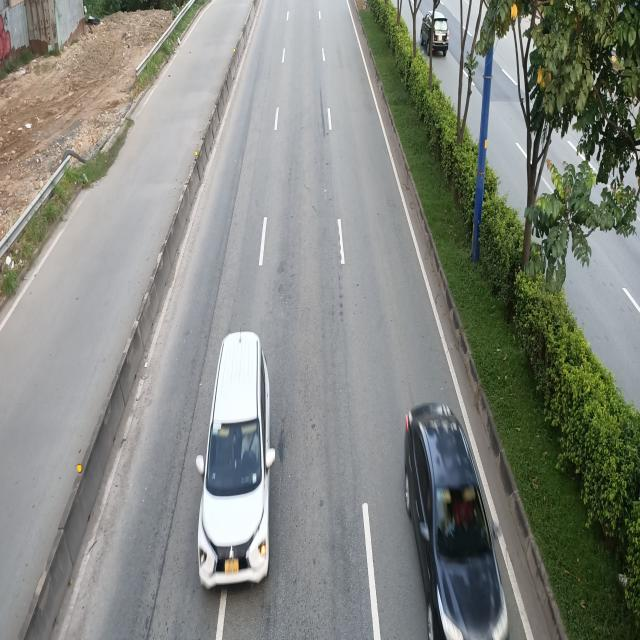car: (402, 406, 517, 640), (200, 327, 278, 586)
